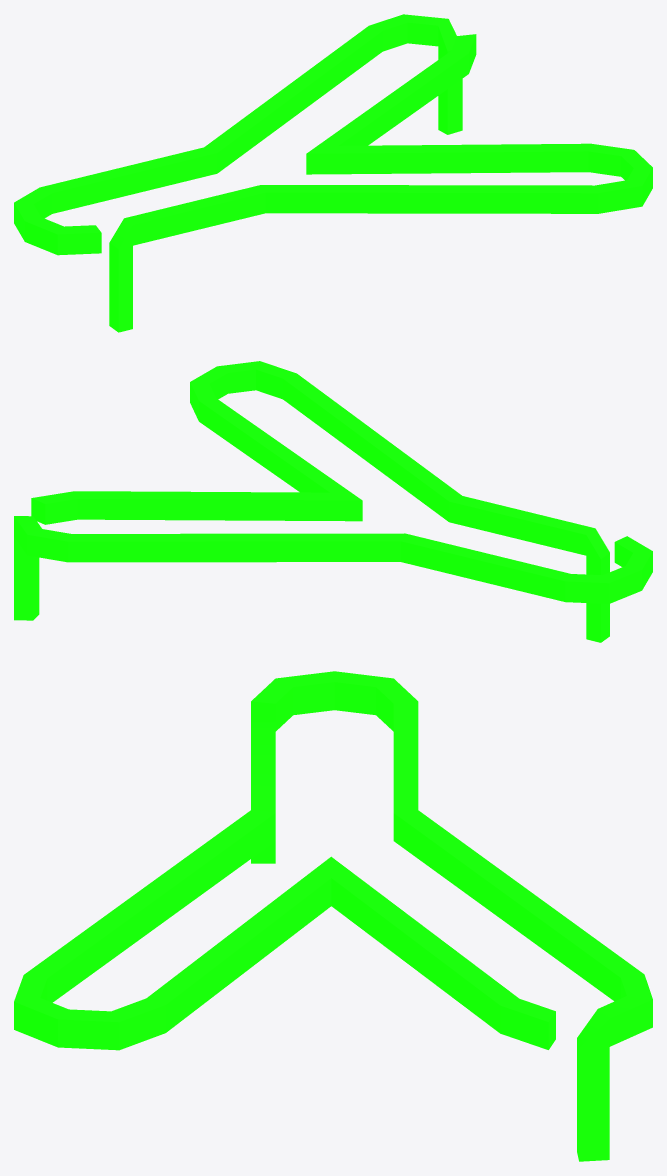
The model's file is Alphabet_3D_04_Y.FBX.
3 renders of one model, top to bottom at view 1: azimuth 30°, elevation 25°; view 2: azimuth 150°, elevation 25°; view 3: azimuth 270°, elevation 25°, orthographic. The views are drawn at different scales.
Parts seen in each view (by area): view 1: Alphabet_3D_04_Y; view 2: Alphabet_3D_04_Y; view 3: Alphabet_3D_04_Y.
Part boxes in pixels (<box>): Alphabet_3D_04_Y: <box>14,14,652,332</box>; Alphabet_3D_04_Y: <box>14,361,652,642</box>; Alphabet_3D_04_Y: <box>14,671,652,1161</box>.
Bounding box in the file's own units: 67.33 × 12.63 × 51.81.
